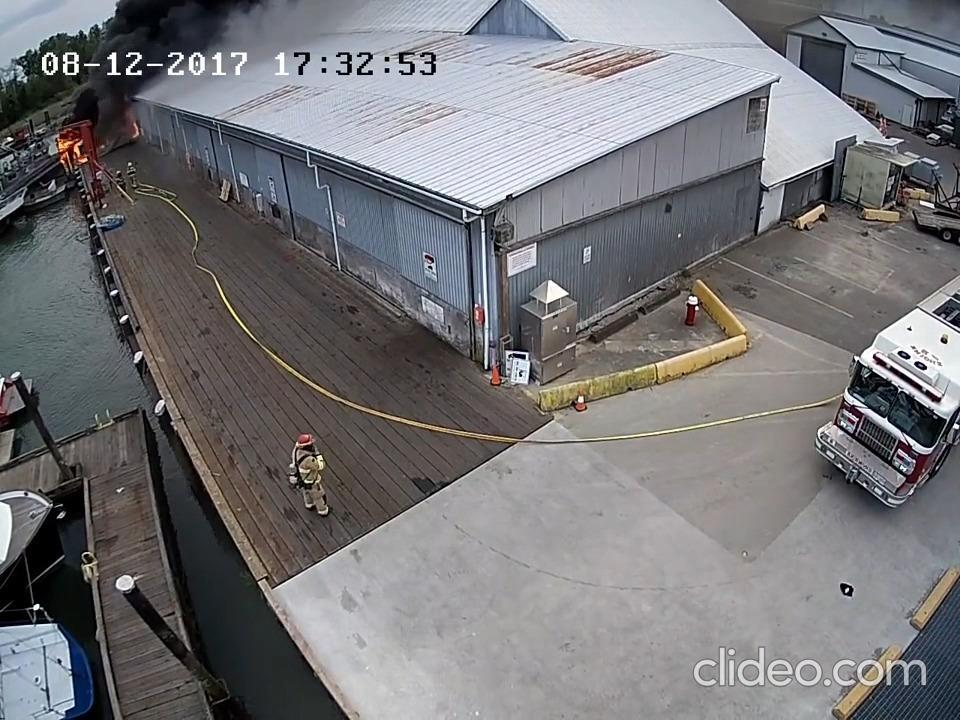fire: (50, 128, 90, 180), (125, 114, 142, 142)
